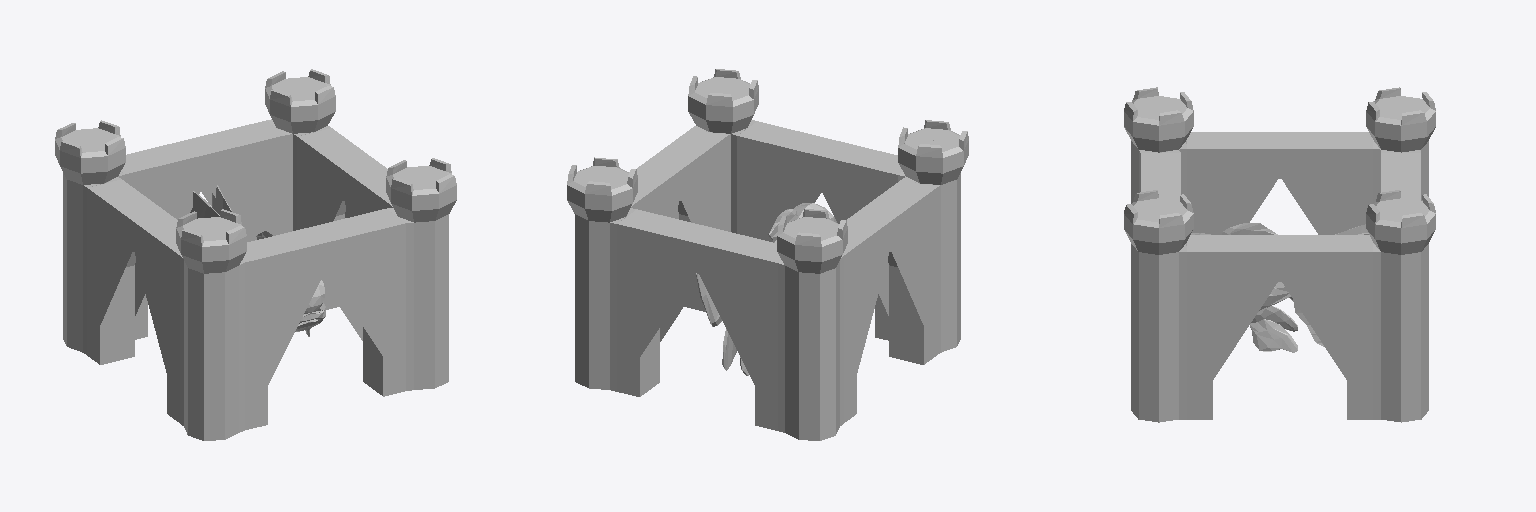
Rendered from GoldfishJustCastle.obj.
3 views of the same model, side by side, from view 1: azimuth 30°, elevation 25°; view 2: azimuth 150°, elevation 25°; view 3: azimuth 270°, elevation 25° (orthographic).
Visible parts, largest first — view 1: initialShadingGroup pCube12, initialShadingGroup polySurface1, pCube12; view 2: initialShadingGroup pCube12, pCube12, initialShadingGroup polySurface1; view 3: initialShadingGroup pCube12, initialShadingGroup polySurface1.
Part boxes in pixels (x1,y1,x2,y2): initialShadingGroup pCube12: (55, 69, 456, 440); initialShadingGroup polySurface1: (190, 185, 325, 336); pCube12: (104, 126, 392, 425); initialShadingGroup pCube12: (567, 69, 968, 440); pCube12: (727, 134, 940, 432); initialShadingGroup polySurface1: (696, 203, 836, 375); initialShadingGroup pCube12: (1124, 87, 1435, 422); initialShadingGroup polySurface1: (1191, 223, 1368, 352).
Size of the model in its own units: 7.37 by 5.4 by 7.37.